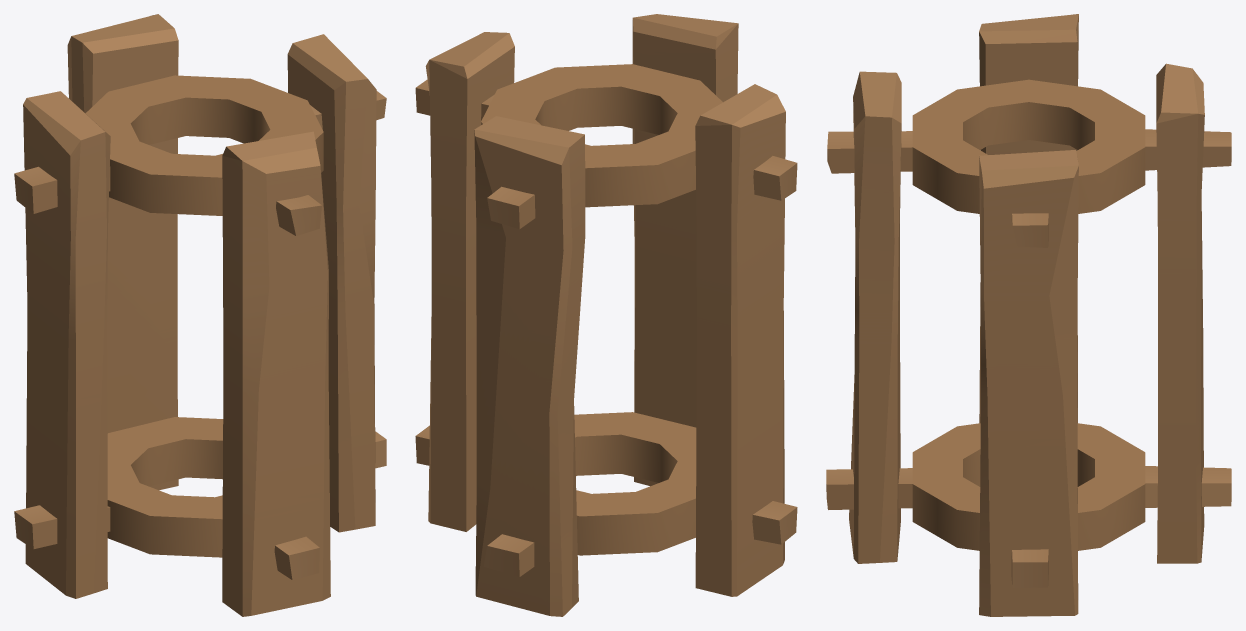
Rendered from BlacksmithTool_C.fbx.
3 renders of one model, left to right at view 1: azimuth 30°, elevation 25°; view 2: azimuth 150°, elevation 25°; view 3: azimuth 270°, elevation 25°, orthographic. The views are drawn at different scales.
Parts seen in each view (by area): view 1: BlacksmithTool_C; view 2: BlacksmithTool_C; view 3: BlacksmithTool_C.
Part boxes in pixels (left/top/right/bottom): BlacksmithTool_C: left=14, top=14, right=386, bottom=616; BlacksmithTool_C: left=415, top=14, right=797, bottom=616; BlacksmithTool_C: left=826, top=14, right=1231, bottom=616.
Size of the model in its own units: 58.08 by 72.31 by 58.08.
